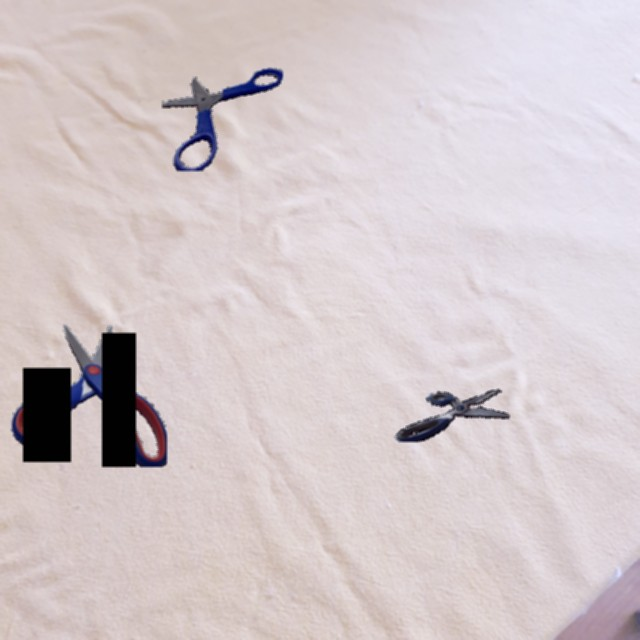scissors: (11, 324, 167, 467), (162, 68, 283, 171), (394, 389, 510, 442)
